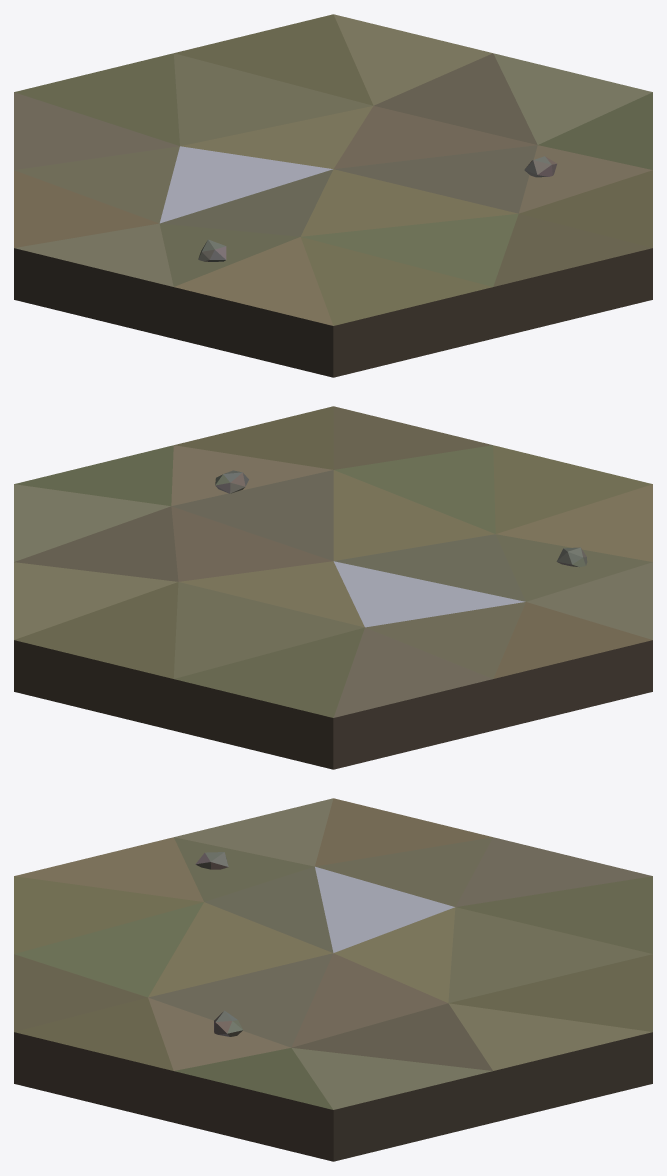
File: Tundra-Far.glb
3 views of the same model, one above another, from view 1: azimuth 30°, elevation 25°; view 2: azimuth 150°, elevation 25°; view 3: azimuth 270°, elevation 25° (orthographic).
Visible parts, largest first — view 1: Tundra-Far; view 2: Tundra-Far; view 3: Tundra-Far.
Part boxes in pixels (x1,y1,x2,y2): Tundra-Far: (14, 14, 652, 377); Tundra-Far: (14, 406, 652, 769); Tundra-Far: (14, 798, 652, 1161).
Size of the model in its own units: 1.94 by 0.1919 by 1.68.
